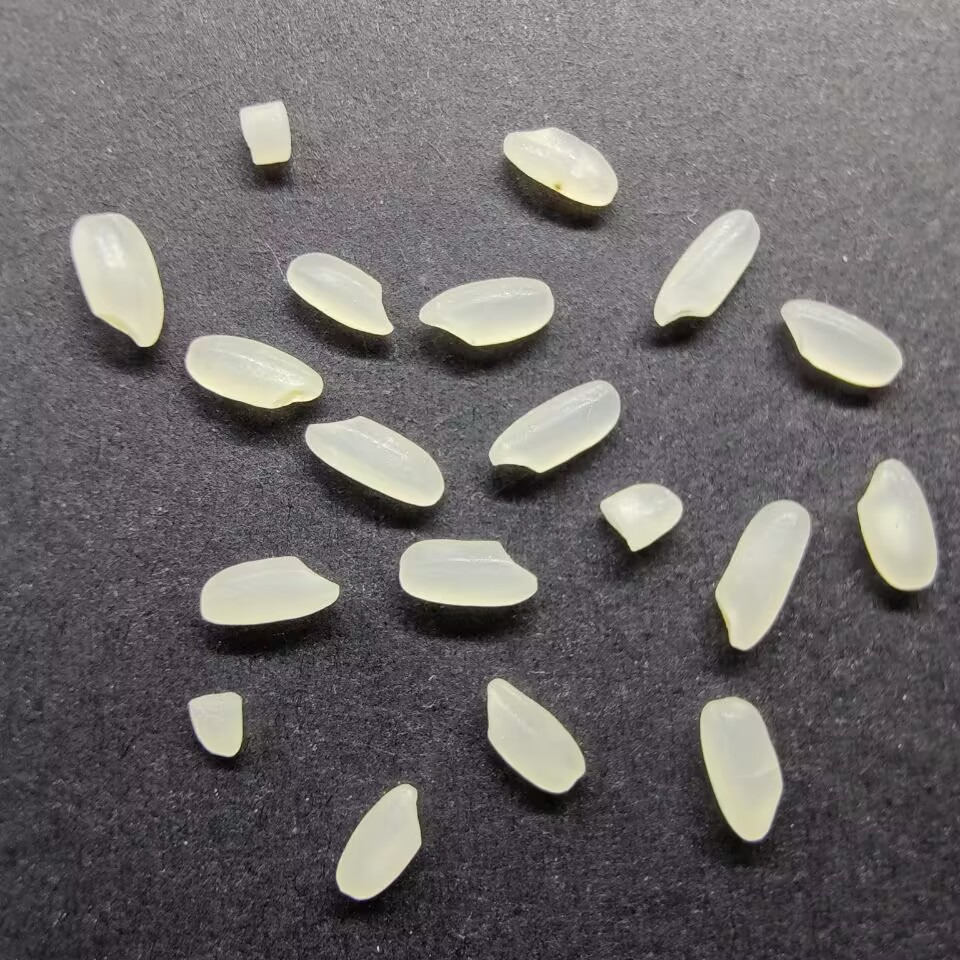broken: (597, 480, 683, 556), (185, 691, 246, 757), (235, 100, 293, 167)
rice: (710, 497, 815, 651), (69, 209, 165, 349), (651, 207, 762, 328), (486, 377, 621, 475), (303, 414, 446, 506), (696, 696, 785, 841), (482, 677, 588, 797), (778, 297, 904, 388), (855, 456, 938, 594), (332, 782, 424, 902), (198, 553, 340, 627), (184, 334, 323, 409), (416, 275, 555, 348), (499, 126, 621, 207), (397, 537, 538, 607), (285, 251, 394, 338)
